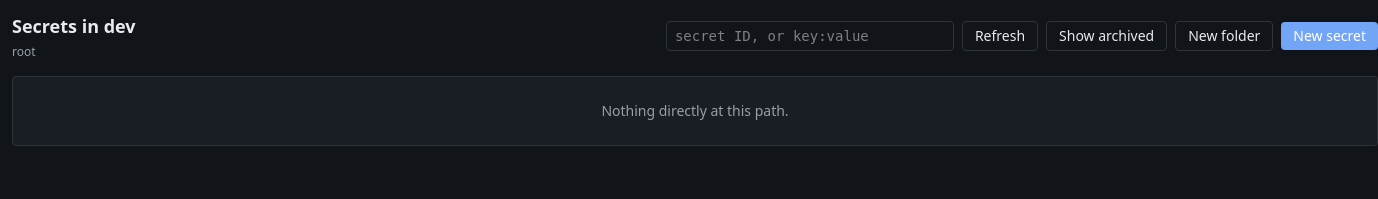
Test case: SecretsCatalog smart search composition › shows the interpretation of mixed input immediately, without waiting for the debounce
Type "owner:payments stripe" into the search field with id "catalog-filter" at (810, 36), box [666,21,954,51]
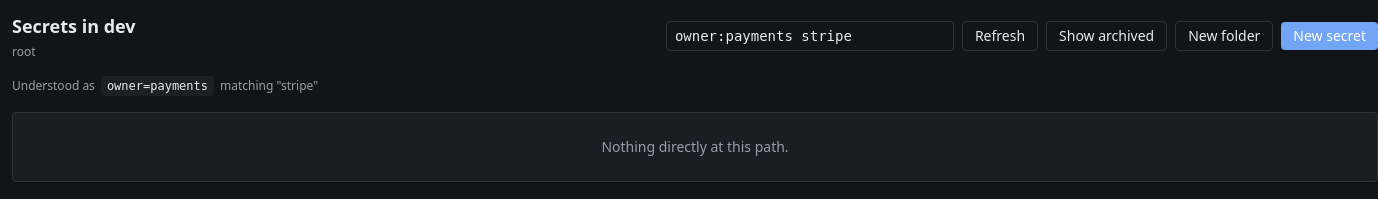
expect the text "owner=payments" is shown: met, box [101,76,214,96]
expect the text "matching \"stripe\"" is shown: met, box [220,78,318,94]
